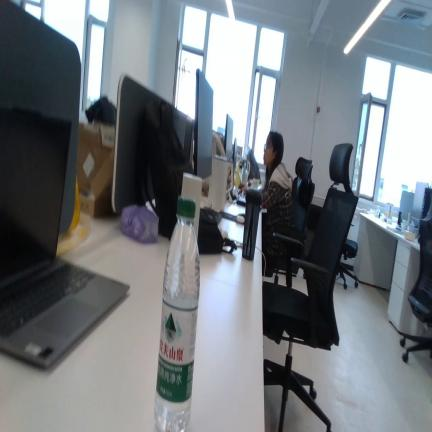bottle: (154, 197, 199, 431)
